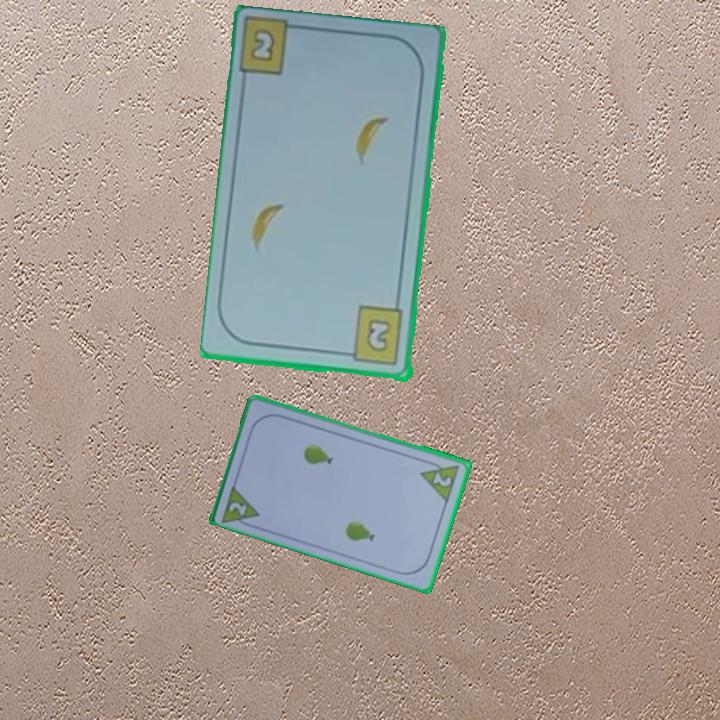2b: (340, 303, 407, 369), (247, 25, 278, 66)
2p: (417, 456, 463, 505), (225, 498, 250, 519)
